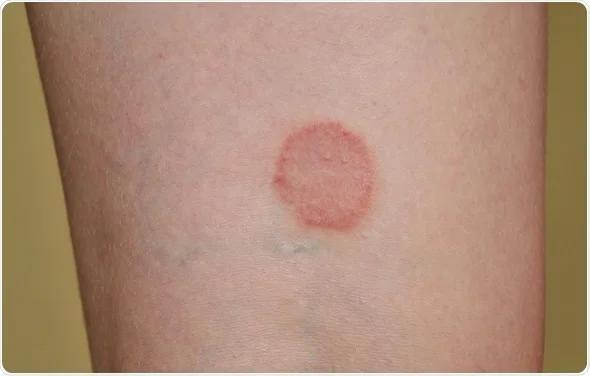annular lichen planus: (246, 106, 400, 253)
